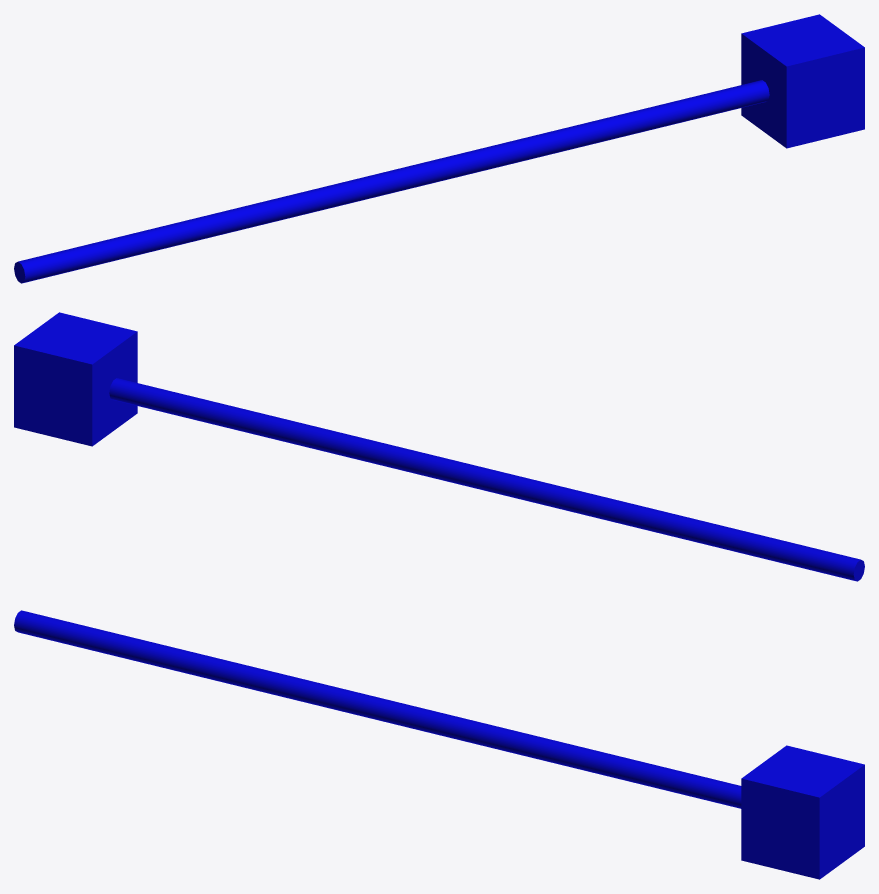
The model's file is Gizmo_Cube_line_Z.fbx.
3 renders of one model, top to bottom at view 1: azimuth 30°, elevation 25°; view 2: azimuth 150°, elevation 25°; view 3: azimuth 330°, elevation 25°, orthographic.
Visible parts, largest first — view 1: Gizmo_cube_Line_Z; view 2: Gizmo_cube_Line_Z; view 3: Gizmo_cube_Line_Z.
Boxes of the visible parts, x1,y1,x2,y2 form: Gizmo_cube_Line_Z: [14, 14, 864, 283]; Gizmo_cube_Line_Z: [14, 312, 864, 581]; Gizmo_cube_Line_Z: [14, 610, 864, 879].
Bounding box in the file's own units: 21 × 2 × 2.
